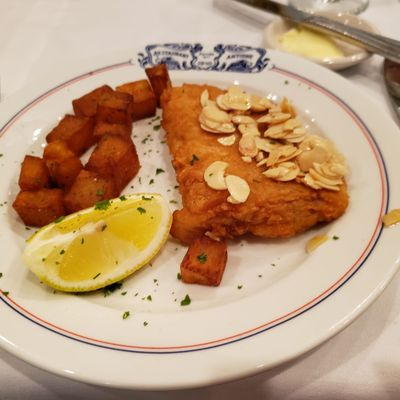sandwich: (237, 0, 400, 64)
